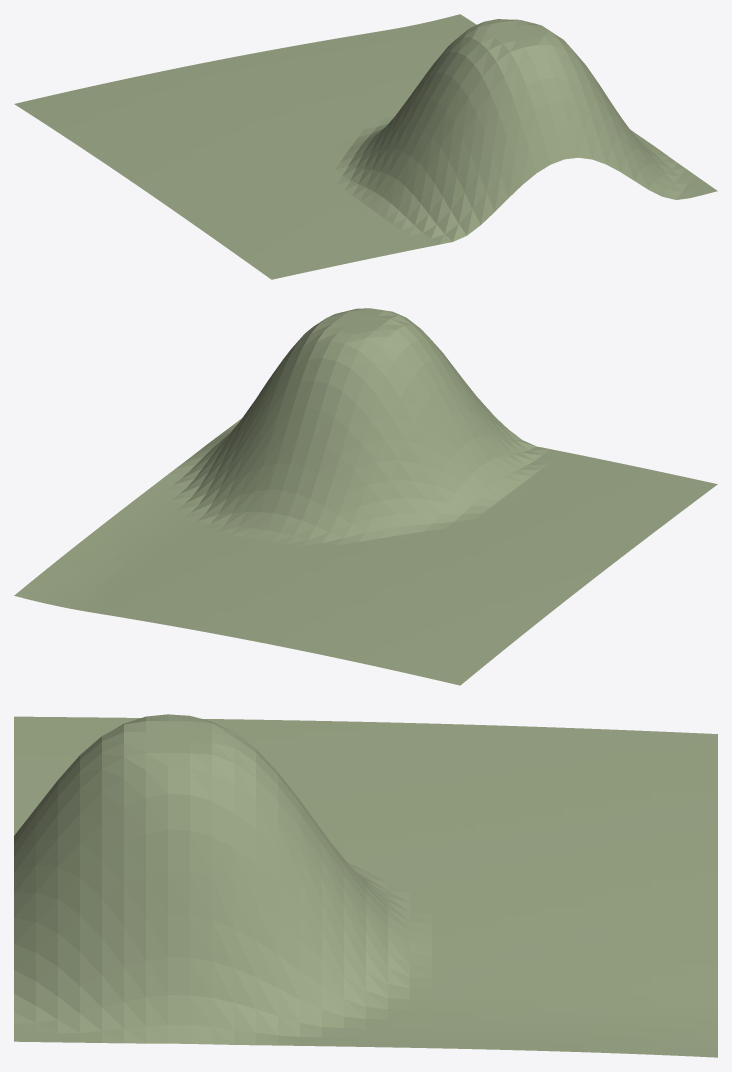
Rendered from expanse-23-12.glb.
3 renders of one model, top to bottom at view 1: azimuth 30°, elevation 25°; view 2: azimuth 150°, elevation 25°; view 3: azimuth 270°, elevation 25°, orthographic. The views are drawn at different scales.
Parts seen in each view (by area): view 1: expanse-23-12; view 2: expanse-23-12; view 3: expanse-23-12.
Boxes of the visible parts, x1,y1,x2,y2 form: expanse-23-12: (14, 14, 717, 279); expanse-23-12: (14, 308, 717, 685); expanse-23-12: (14, 714, 717, 1057).
Bounding box in the file's own units: 256 × 90.41 × 256.
